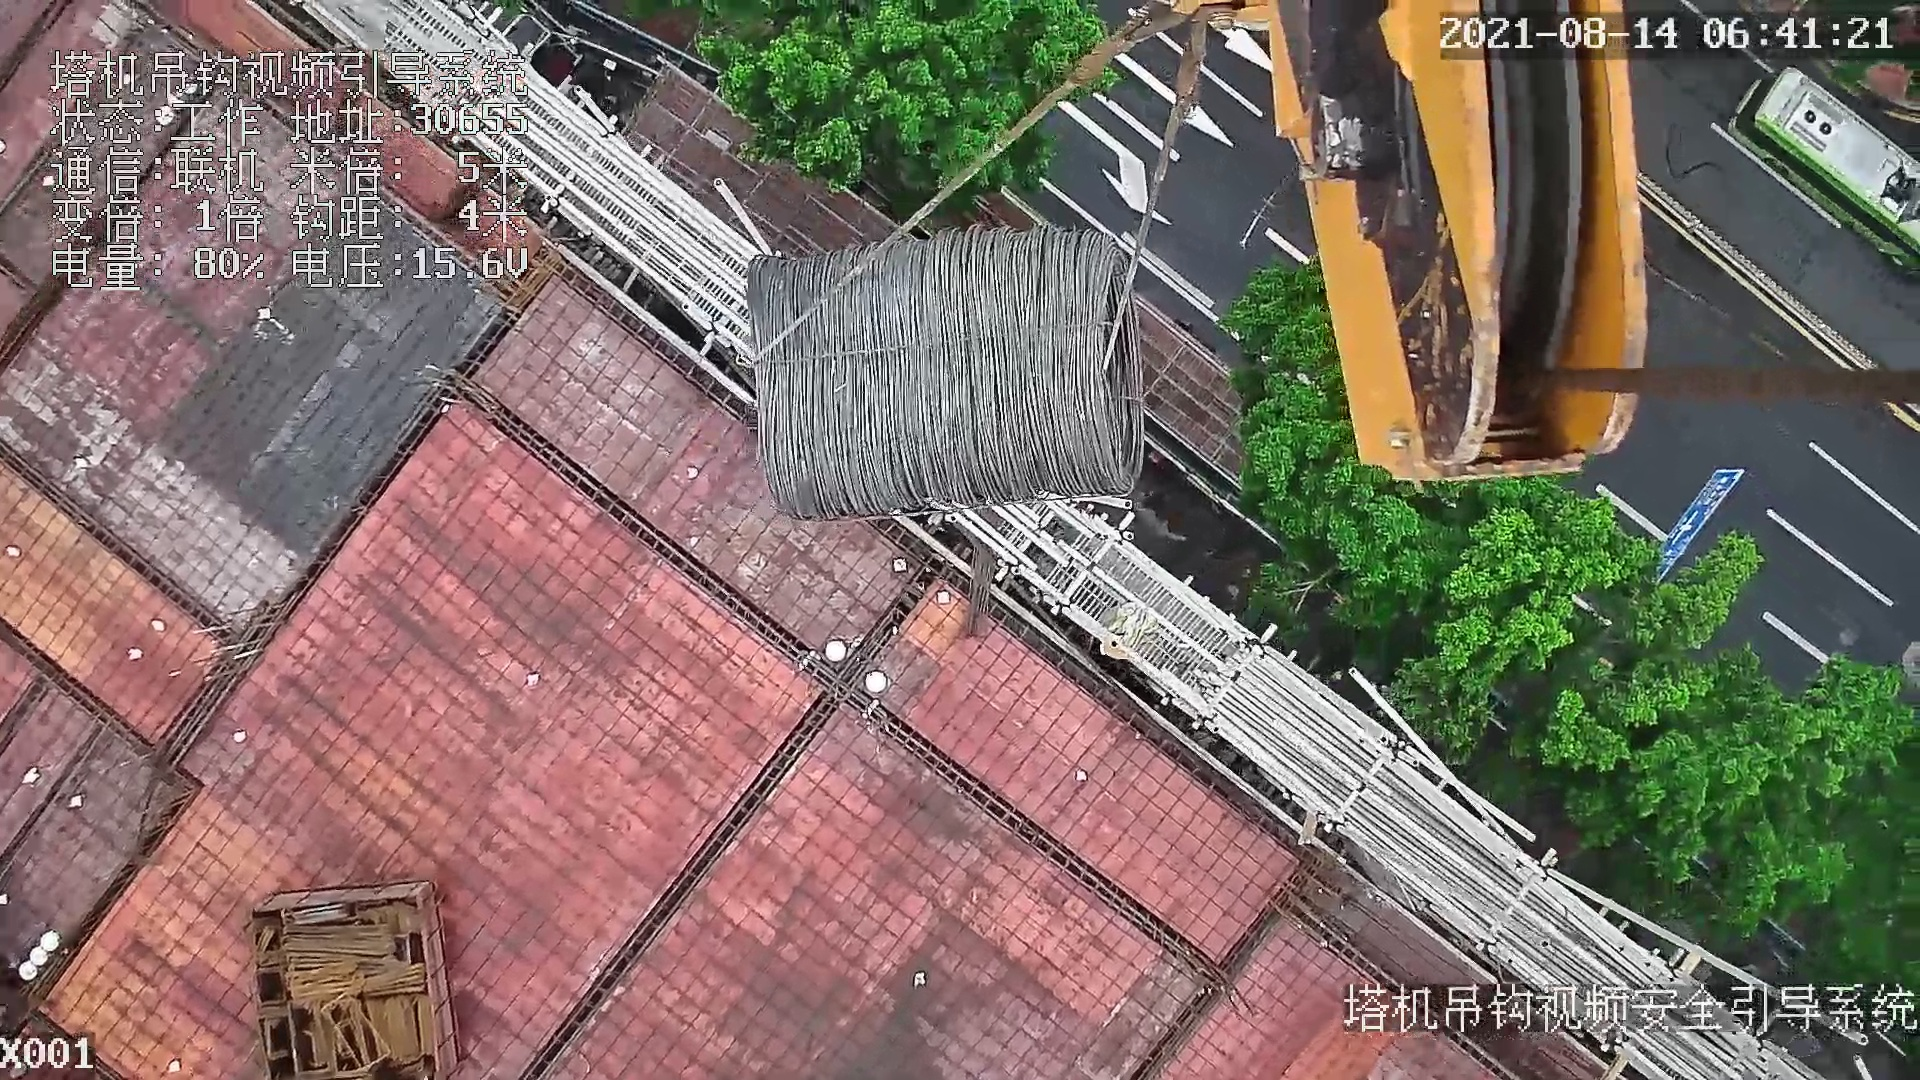hook: (1191, 1, 1656, 483)
